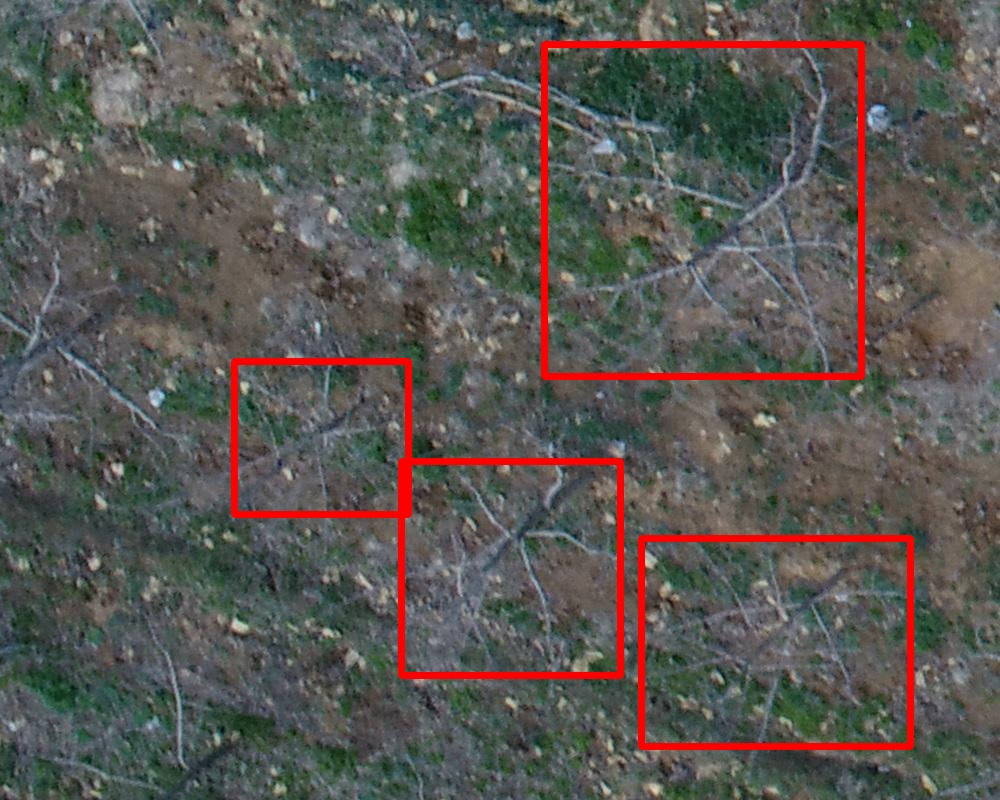apple: (544, 44, 861, 376), (641, 538, 910, 746), (401, 461, 620, 675), (234, 361, 408, 514)
